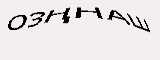З: (28, 9, 44, 34)
Н: (72, 3, 104, 23), (107, 6, 127, 27)
О: (7, 12, 28, 35)
Ш: (126, 12, 153, 34)
Ң: (43, 4, 74, 26)
